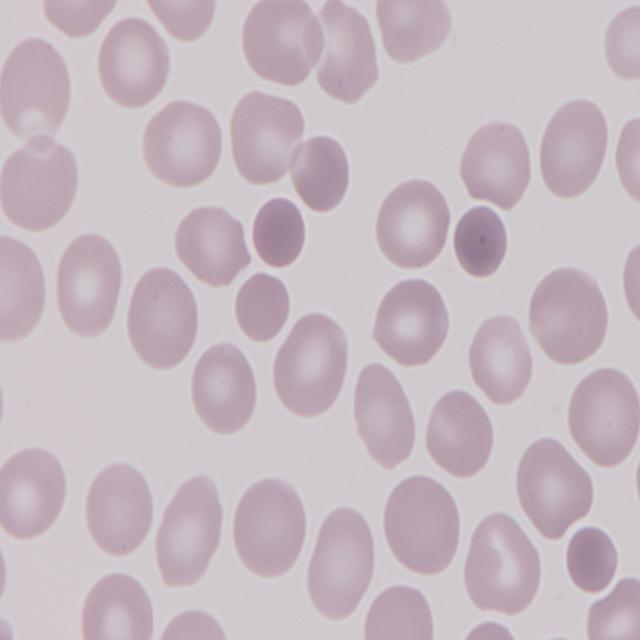RBC: (150, 472, 226, 596), (304, 501, 377, 628), (463, 510, 547, 617), (526, 263, 612, 367), (381, 473, 464, 580), (272, 315, 354, 423), (512, 436, 596, 540), (227, 82, 307, 186), (0, 32, 73, 145), (230, 474, 307, 581), (566, 362, 640, 473), (139, 100, 227, 190), (50, 230, 123, 338), (126, 268, 201, 372), (372, 177, 450, 276), (373, 274, 453, 370), (537, 97, 613, 198), (0, 136, 79, 232), (95, 14, 173, 110), (242, 0, 327, 88), (458, 117, 538, 208), (310, 2, 380, 105), (84, 460, 156, 560), (190, 339, 264, 436), (423, 387, 498, 480), (468, 309, 538, 408), (354, 366, 420, 470), (0, 444, 70, 541), (174, 204, 254, 288), (0, 232, 51, 343), (78, 570, 158, 640), (373, 0, 453, 70), (363, 583, 440, 640), (138, 0, 224, 44), (584, 574, 640, 640), (36, 0, 121, 38), (603, 0, 640, 83), (158, 606, 238, 640), (613, 112, 640, 209), (619, 232, 640, 340)
Spherocyte: (290, 132, 354, 215), (454, 198, 514, 278), (248, 196, 308, 272), (232, 268, 290, 346), (564, 523, 620, 593)
